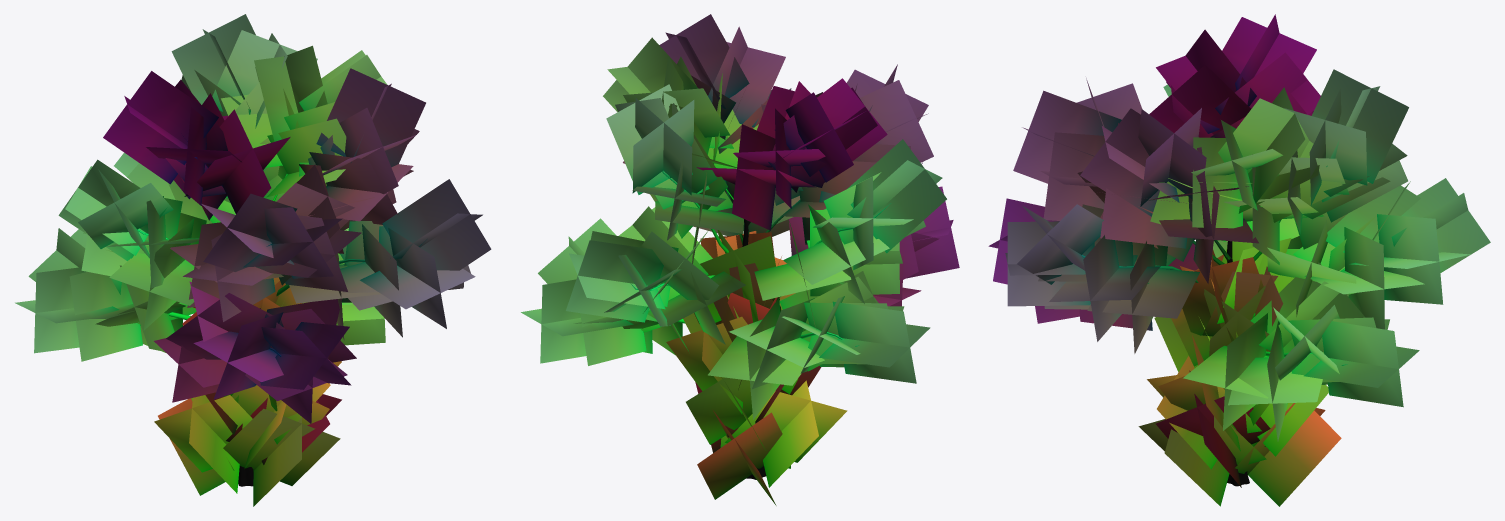
File: URP_P3_Tree_9_LOD_0.fbx
3 renders of one model, left to right at view 1: azimuth 30°, elevation 25°; view 2: azimuth 150°, elevation 25°; view 3: azimuth 270°, elevation 25°, orthographic. The views are drawn at different scales.
Parts seen in each view (by area): view 1: Tree_9_LOD_0; view 2: Tree_9_LOD_0; view 3: Tree_9_LOD_0.
Part boxes in pixels (box(x1,y1,x2,y2)): Tree_9_LOD_0: box(15, 14, 491, 506); Tree_9_LOD_0: box(521, 14, 959, 505); Tree_9_LOD_0: box(988, 14, 1490, 506).
Bounding box in the file's own units: 508 × 585 × 600.
